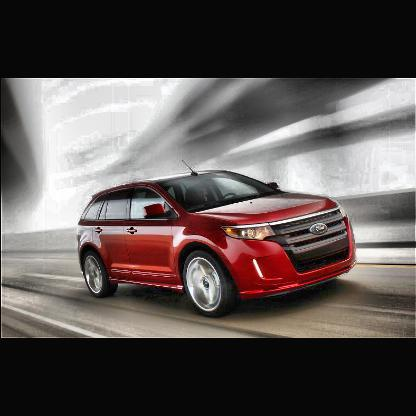Ford Edge SUV 2012: (74, 157, 359, 317)
